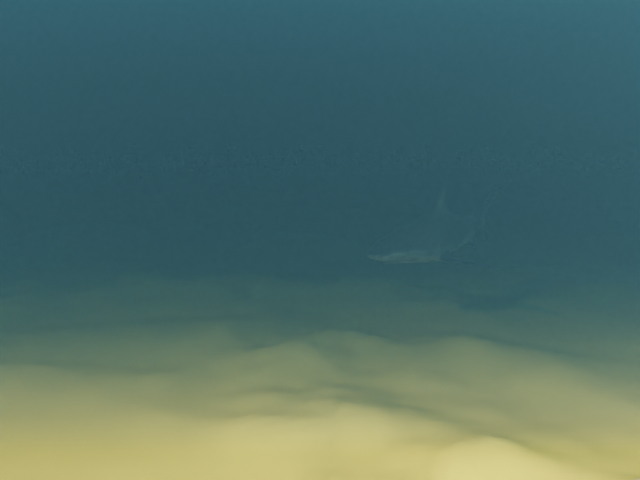Carribean Shark.001: (366, 178, 511, 269)
